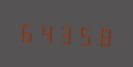eight: (94, 21, 112, 49)
five: (75, 20, 93, 48)
four: (37, 18, 55, 46)
six: (18, 17, 36, 45)
three: (56, 19, 74, 47)
